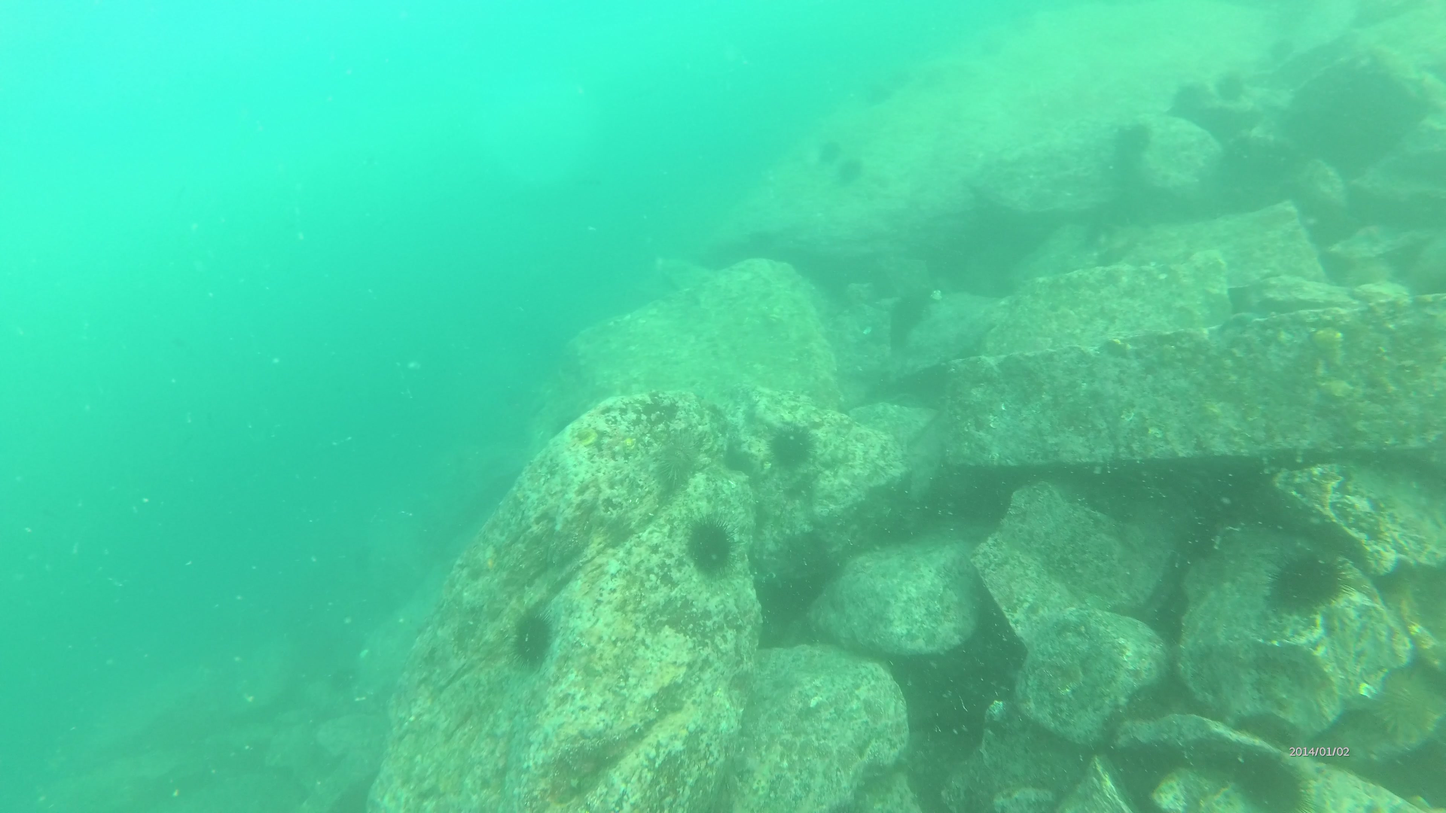starfish: (1271, 549, 1354, 615), (688, 516, 739, 586), (507, 610, 558, 673), (649, 428, 704, 486), (770, 423, 823, 478), (1115, 116, 1151, 167), (320, 663, 360, 700), (1175, 78, 1212, 116), (833, 159, 866, 193), (1213, 67, 1244, 100), (816, 140, 843, 168)
